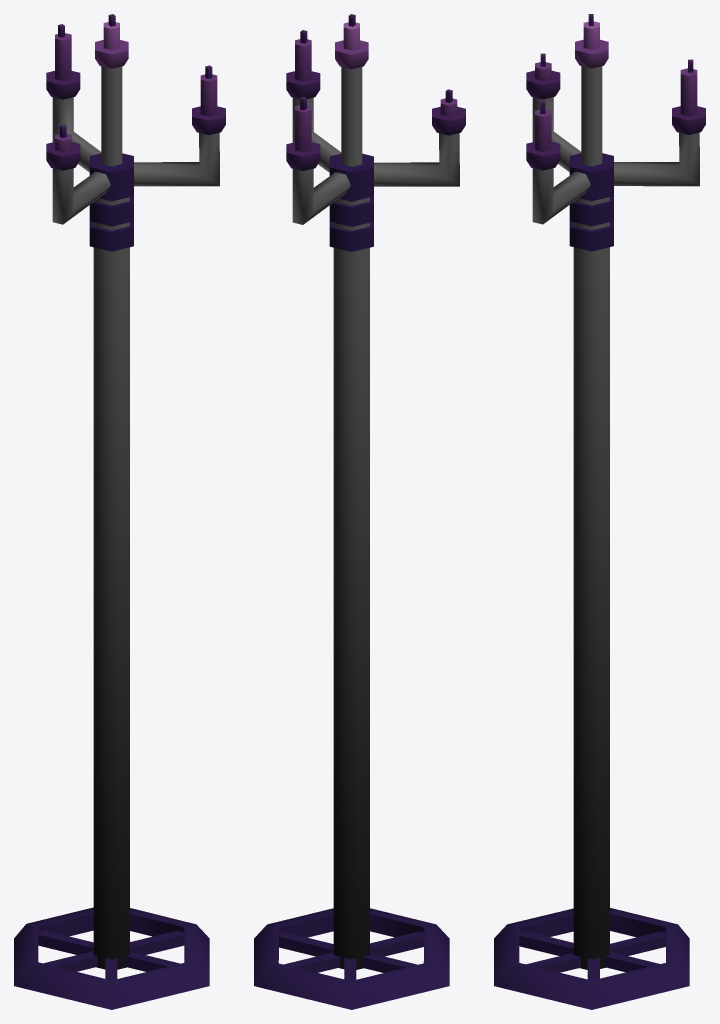
Rendered from Candle_Stand_01.fbx.
The picture shows the model from 3 angles, left to right: view 1: azimuth 30°, elevation 25°; view 2: azimuth 150°, elevation 25°; view 3: azimuth 270°, elevation 25°; orthographic projection.
Parts seen in each view (by area): view 1: Candle_Stand_01с; view 2: Candle_Stand_01с; view 3: Candle_Stand_01с.
Part boxes in pixels (x1,y1,x2,y2): Candle_Stand_01с: [14, 14, 225, 1009]; Candle_Stand_01с: [254, 14, 465, 1009]; Candle_Stand_01с: [494, 14, 705, 1009].
Size of the model in its own units: 40.76 by 189 by 38.25.
